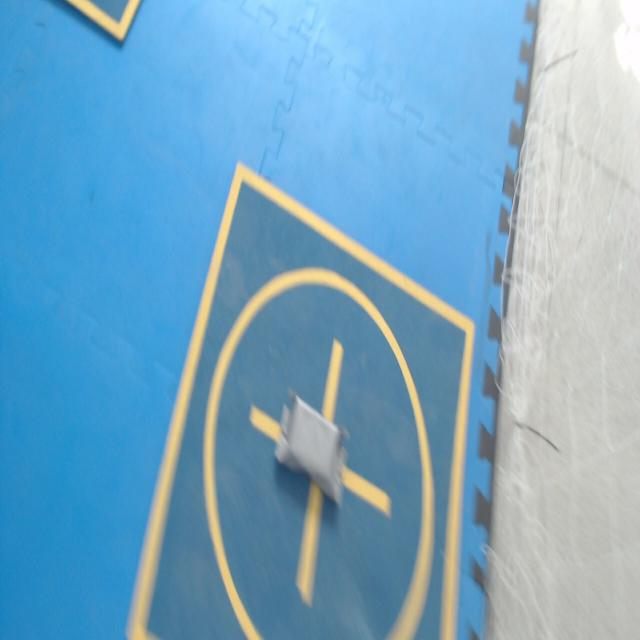lipo: (275, 394, 346, 501)
